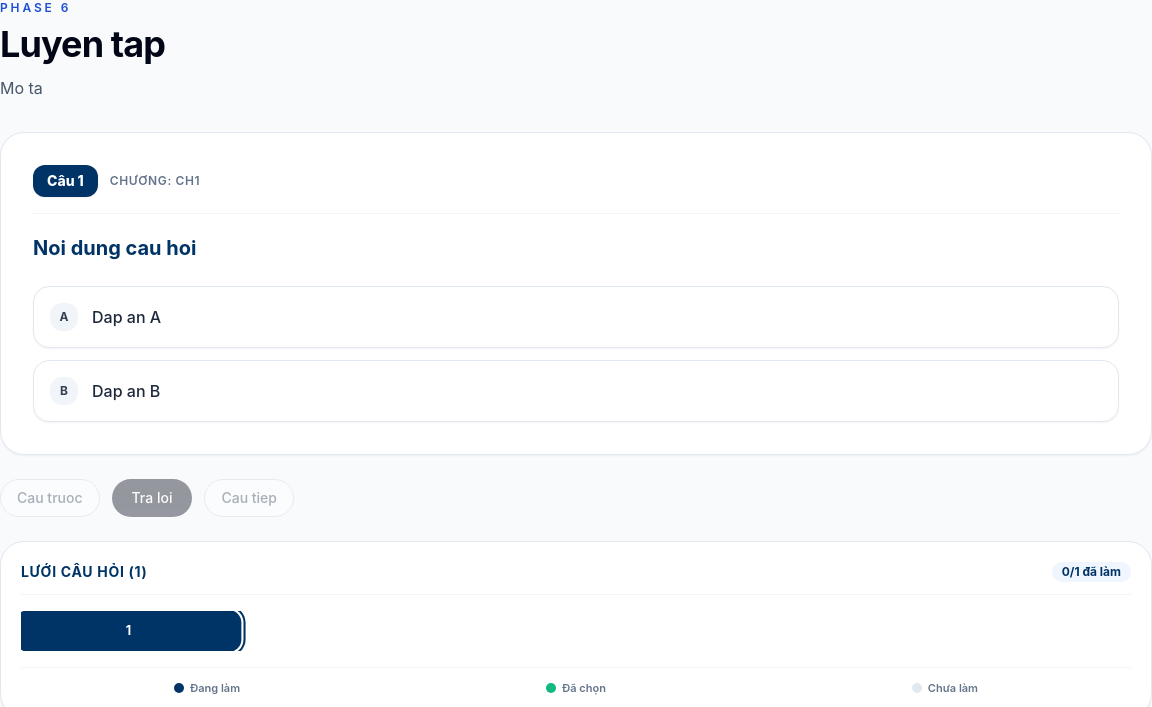
it: PracticeSessionView › allows selecting an answer and shows explanation after submit
expect the text "Giải thích chi tiết" is not shown: met
Click the button "A Dap an A": (127, 317) x1=33 y1=286 x2=1119 y2=348
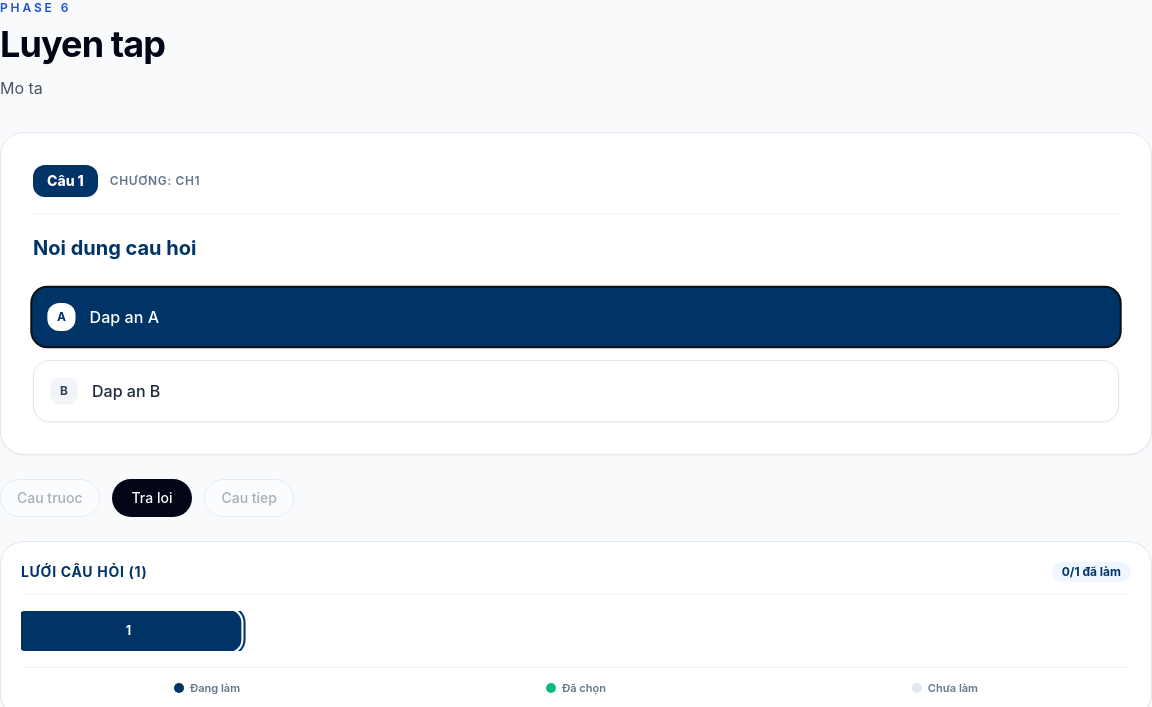
Click the button "Tra loi": (152, 498) x1=112 y1=479 x2=192 y2=517
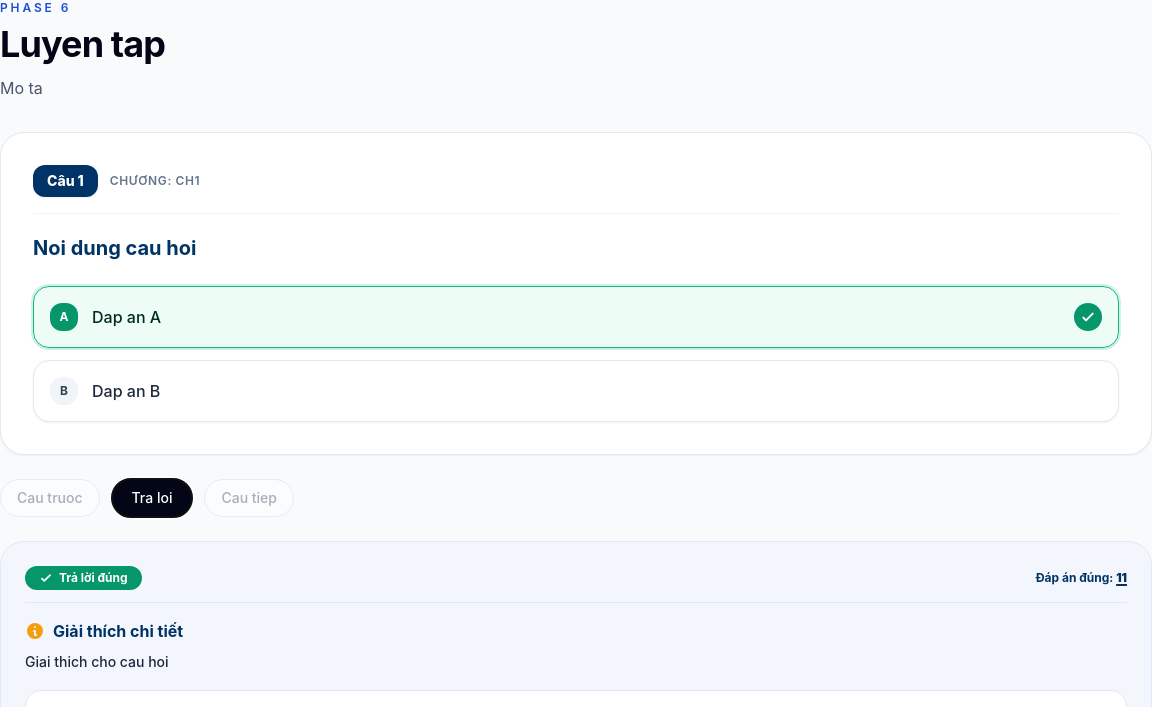
expect the heading "Giải thích chi tiết" is shown: met, box x1=25 y1=621 x2=183 y2=641
expect the text "Giai thich cho cau hoi" is shown: met, box x1=25 y1=653 x2=169 y2=670
expect the text "Trả lời đúng" is shown: met, box x1=25 y1=566 x2=142 y2=590
